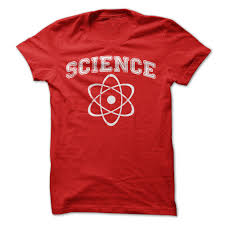T-Shirt: (14, 8, 213, 217)
